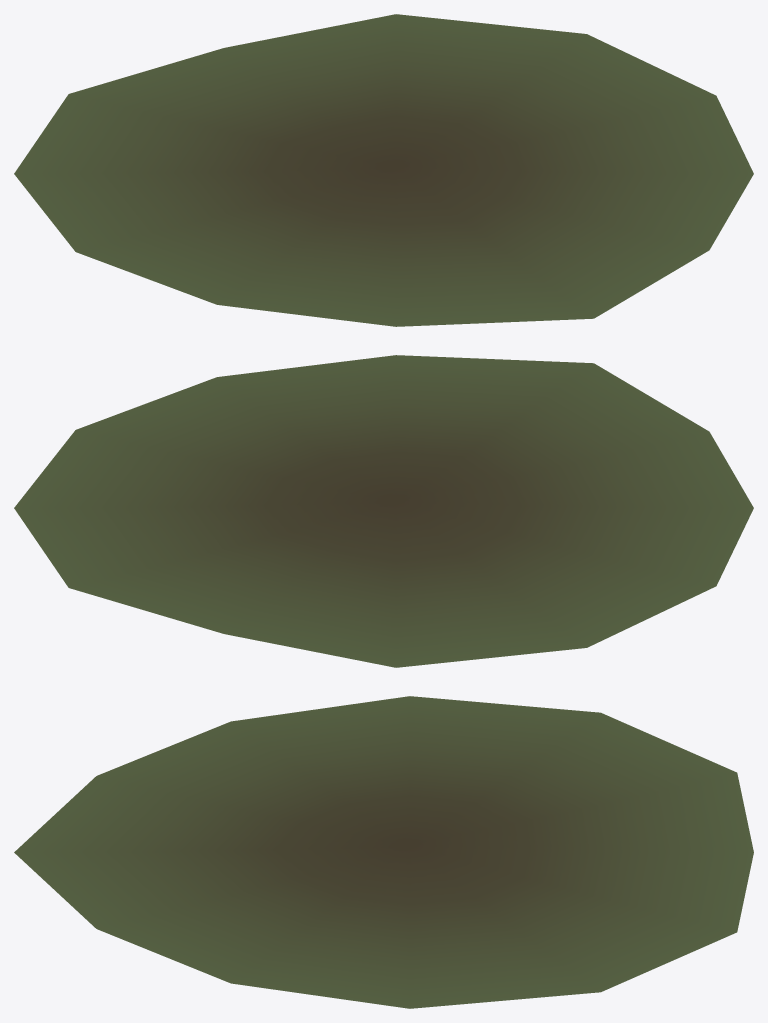
Rendered from root_contact_lod1.glb.
The picture shows the model from 3 angles, top to bottom: view 1: azimuth 30°, elevation 25°; view 2: azimuth 150°, elevation 25°; view 3: azimuth 270°, elevation 25°; orthographic projection.
Visible parts, largest first — view 1: root_contact_lod1; view 2: root_contact_lod1; view 3: root_contact_lod1.
Boxes of the visible parts, x1,y1,x2,y2 form: root_contact_lod1: [14, 14, 753, 326]; root_contact_lod1: [14, 355, 753, 667]; root_contact_lod1: [14, 696, 753, 1008].
Size of the model in its own units: 3.12 by 0.025 by 3.12.
